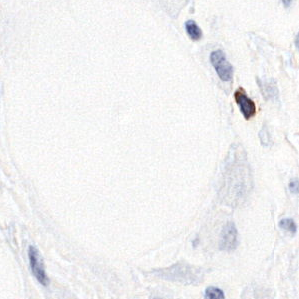Lymphocyte: (234, 87, 258, 120)
